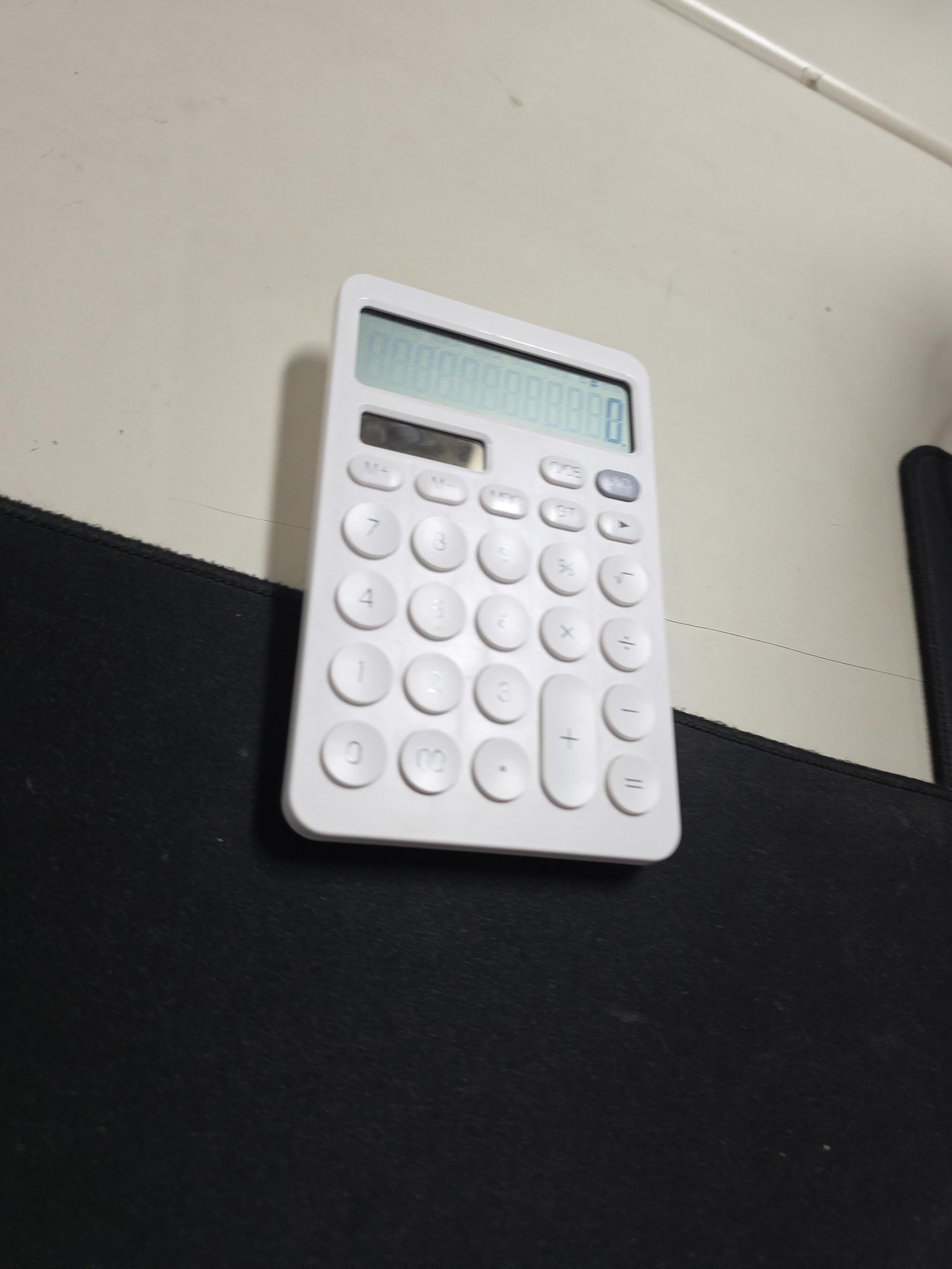calculator: (281, 273, 681, 867)
